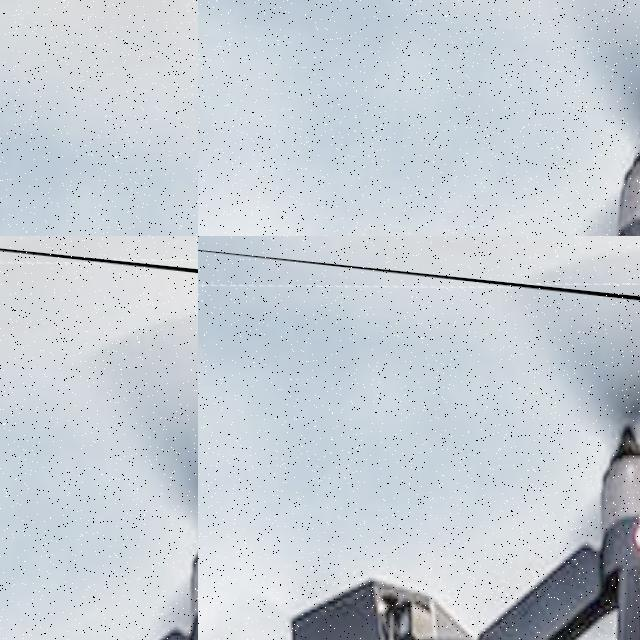drone: (198, 236, 640, 640), (0, 236, 198, 640), (0, 0, 198, 236)
